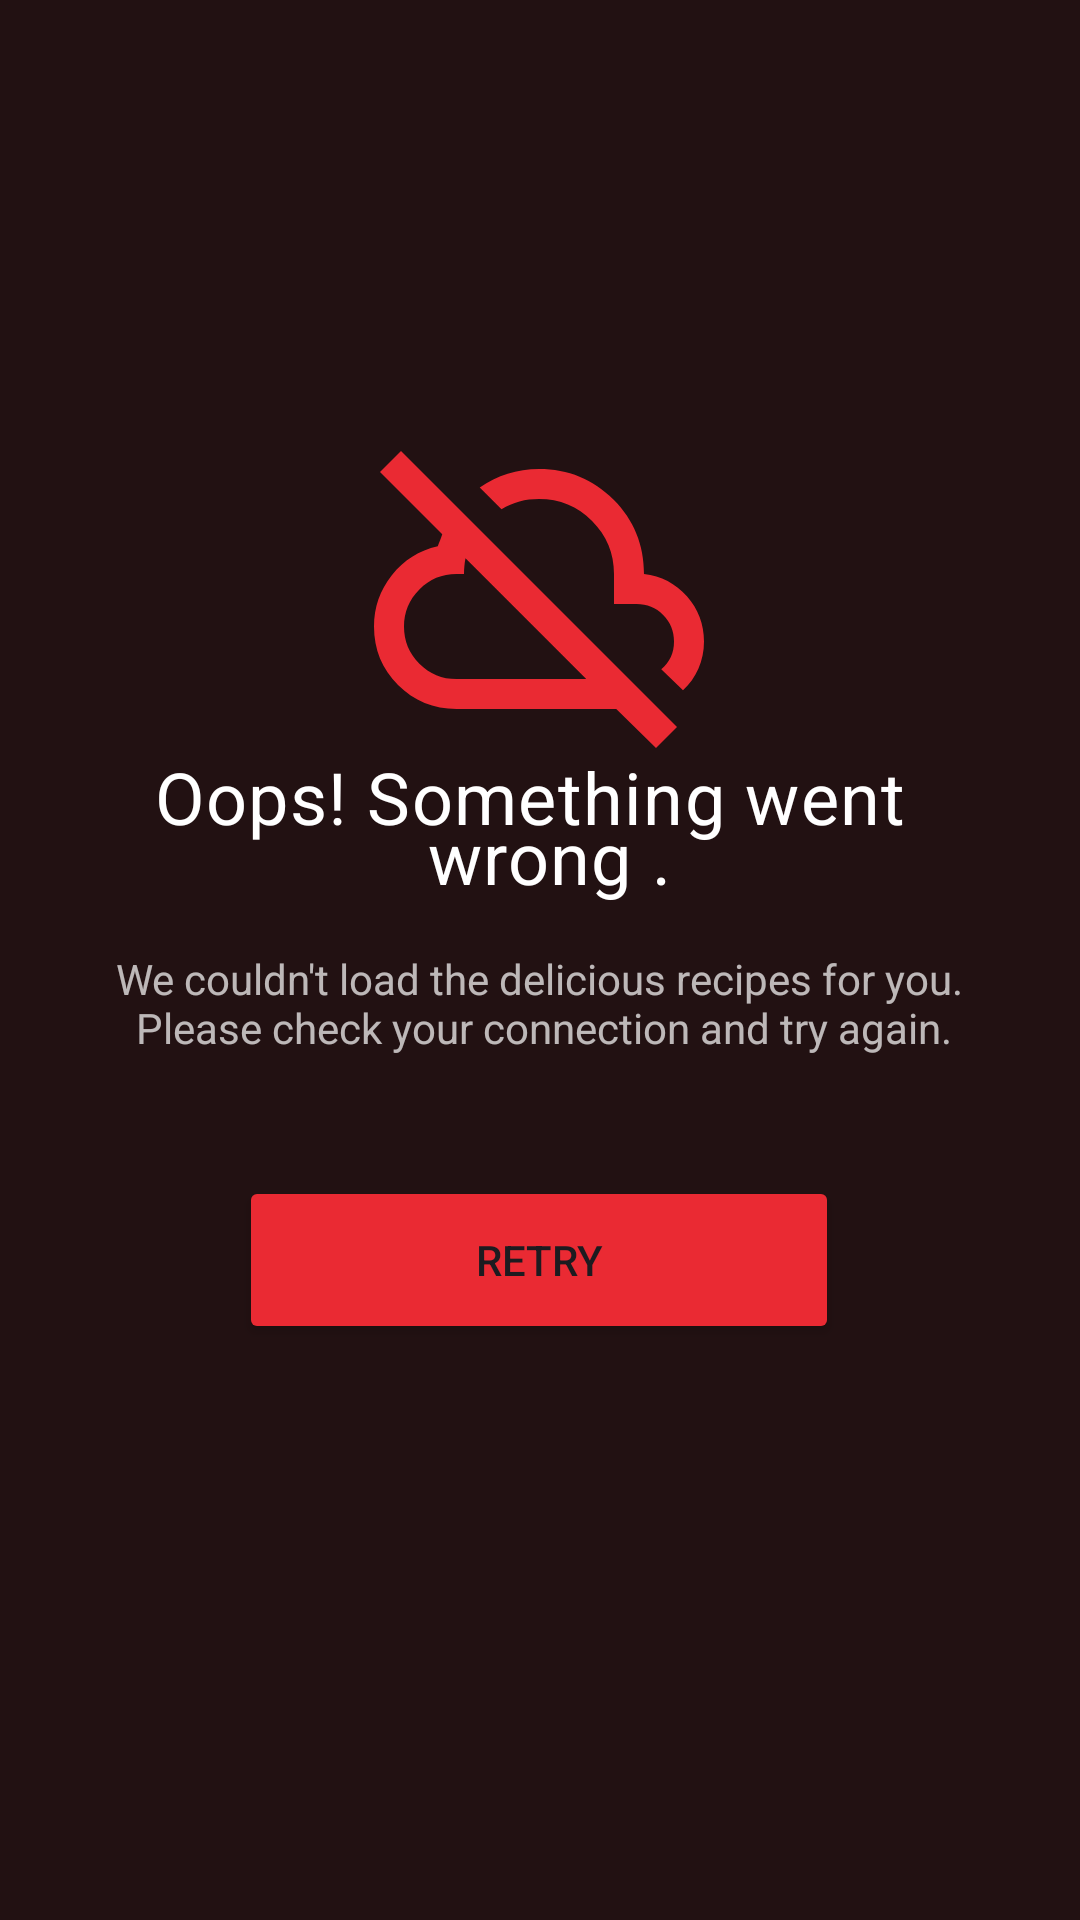

Icons on this 1080x1920 Android screen, each with the point to tap as [x,y]:
no connection: [539,599]
